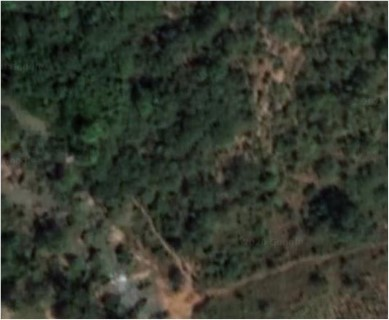trees: (105, 91, 194, 151), (267, 173, 333, 222), (28, 39, 71, 67)
